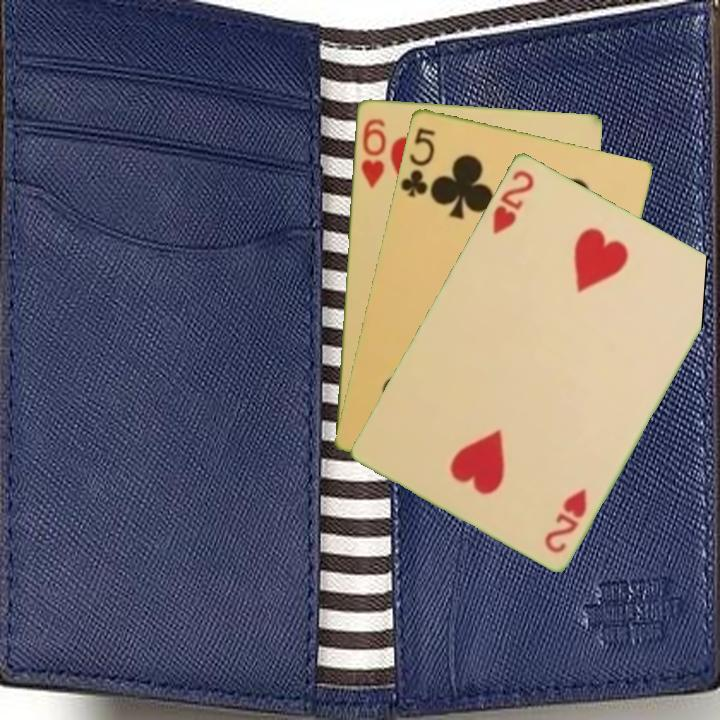2h: (540, 484, 590, 556), (488, 165, 537, 237)
5c: (397, 123, 438, 200)
6h: (357, 114, 388, 190)
